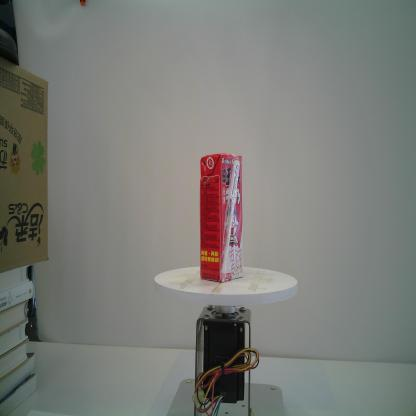Milk: (198, 150, 246, 285)
